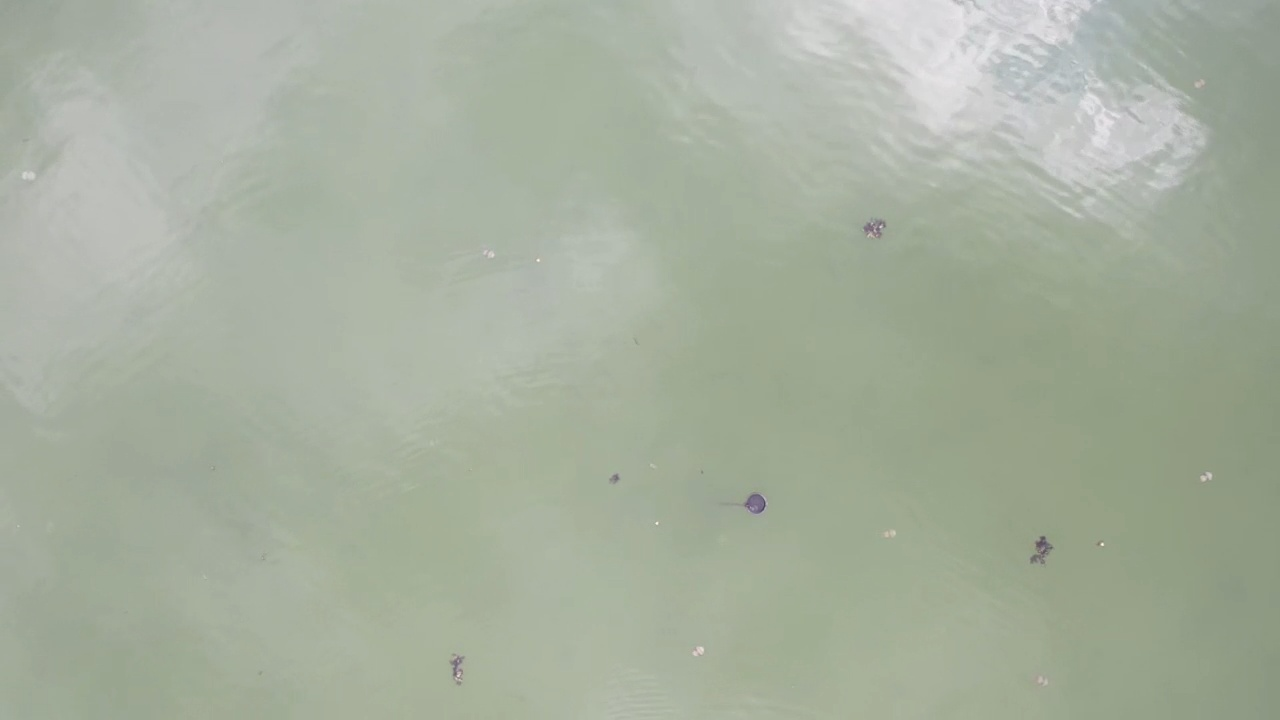meduse: (21, 169, 38, 183), (692, 646, 706, 658), (481, 249, 496, 260), (884, 528, 899, 539), (1200, 472, 1215, 482), (1038, 675, 1049, 687), (1194, 78, 1206, 88), (648, 463, 658, 471)
